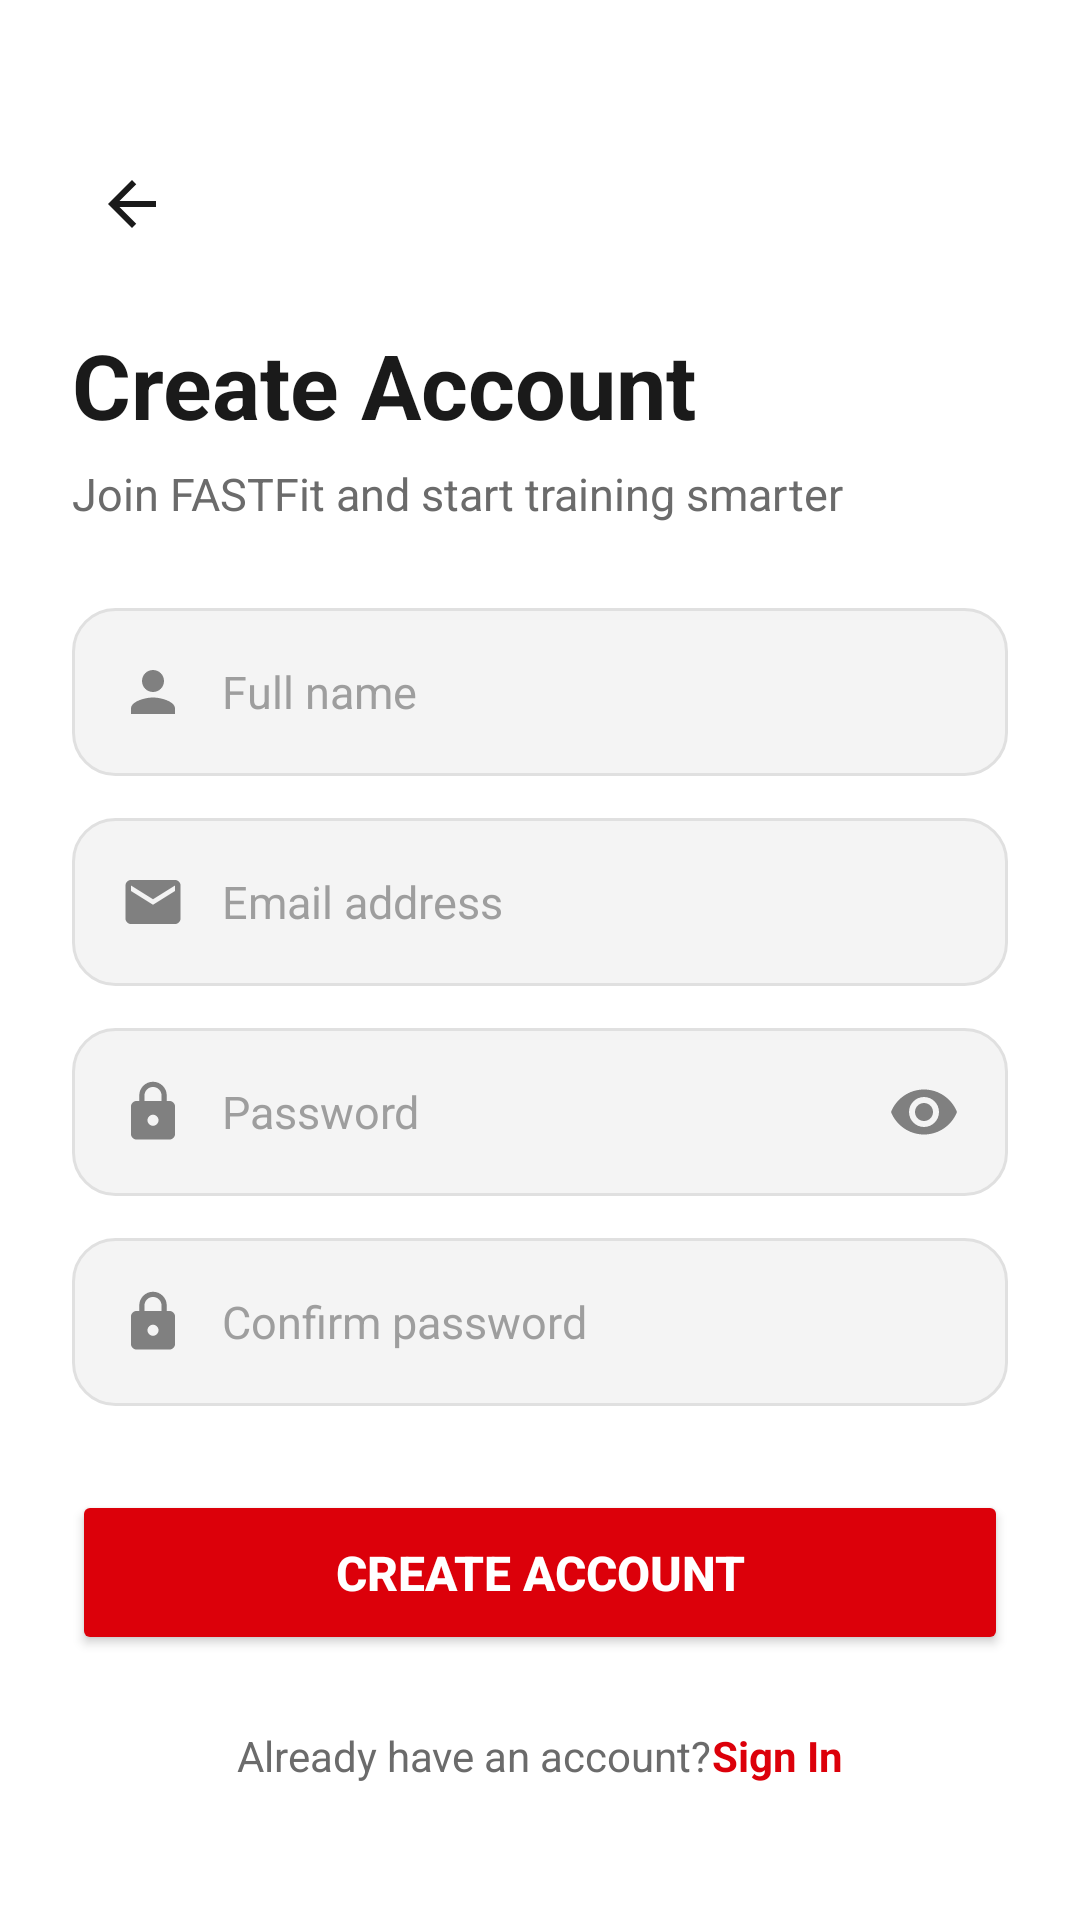

Point at icon controls on the screen. Image size 1080 x 1920, points as (x,y).
Back: (132,204)
